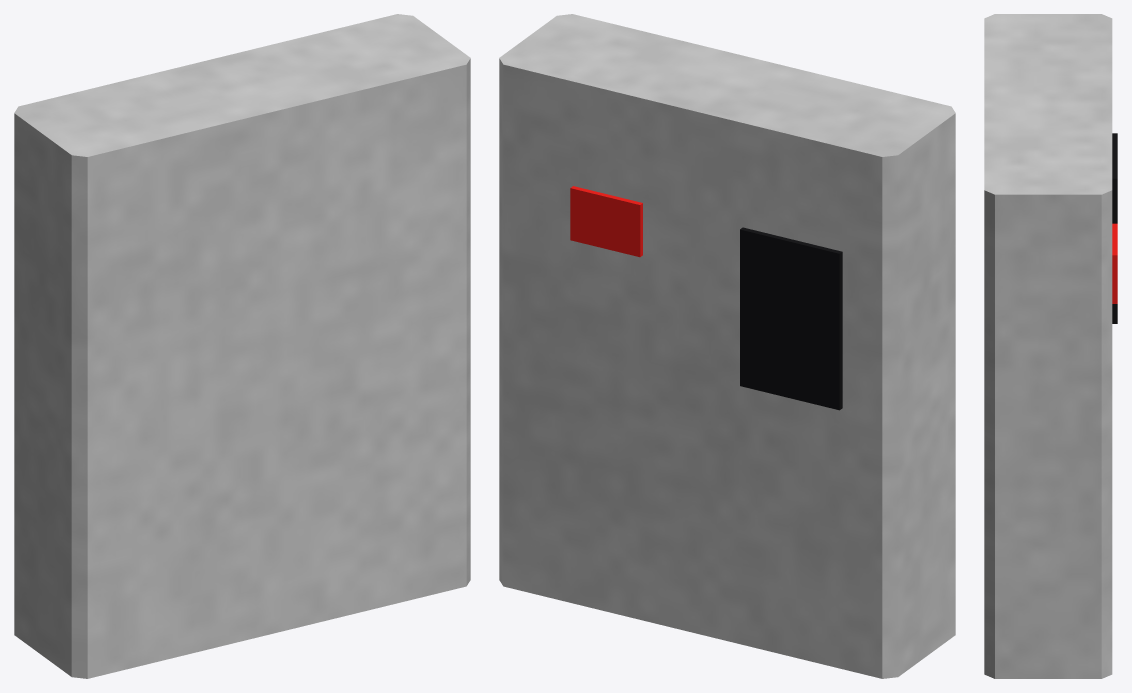
File: fuse_box.obj
3 renders of one model, left to right at view 1: azimuth 30°, elevation 25°; view 2: azimuth 150°, elevation 25°; view 3: azimuth 270°, elevation 25°, orthographic. The views are drawn at different scales.
Visible parts, largest first — view 1: fuse_box; view 2: fuse_box; view 3: fuse_box.
Part boxes in pixels (bbox=[...]): fuse_box: bbox=[14, 14, 470, 678]; fuse_box: bbox=[499, 14, 955, 678]; fuse_box: bbox=[984, 14, 1117, 678].
Bounding box in the file's own units: 0.4 × 0.5 × 0.125.
3 materials, 1 textured.
